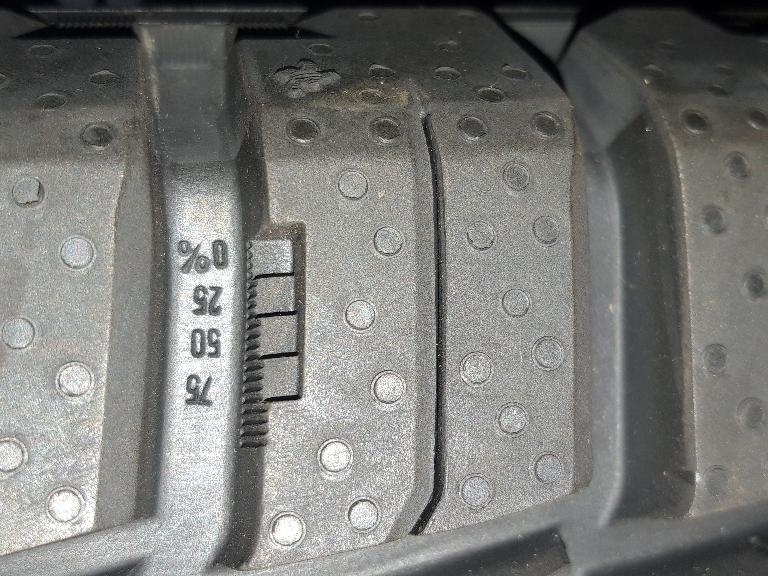temoin:100: (228, 210, 318, 458)
